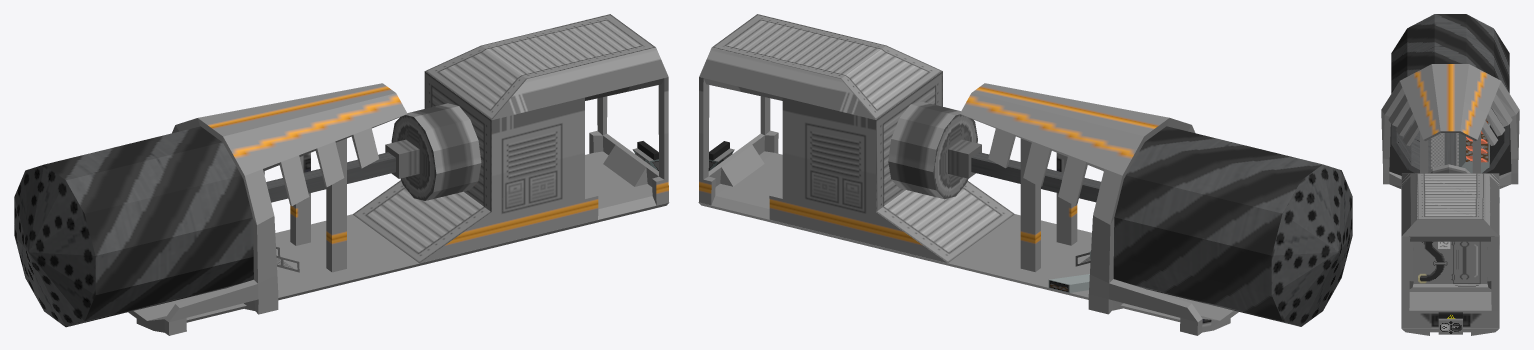
Rendered from bore.obj.
The picture shows the model from 3 angles, left to right: view 1: azimuth 30°, elevation 25°; view 2: azimuth 150°, elevation 25°; view 3: azimuth 270°, elevation 25°; orthographic projection. The views are drawn at different scales.
Visible parts, largest first — view 1: SHELL, CAB, FRAME, DRIVE_SHAFT_0; view 2: SHELL, CAB, FRAME, DRIVE_SHAFT_0; view 3: SHELL, FRAME, CAB, DRIVE_SHAFT_0.
Part boxes in pixels (bbox=[...]): SHELL: bbox=[352, 14, 668, 263]; CAB: bbox=[14, 126, 299, 327]; FRAME: bbox=[128, 83, 669, 335]; DRIVE_SHAFT_0: bbox=[266, 152, 395, 202]; SHELL: bbox=[699, 14, 1014, 262]; CAB: bbox=[1048, 126, 1352, 326]; FRAME: bbox=[698, 83, 1238, 335]; DRIVE_SHAFT_0: bbox=[971, 152, 1100, 202]; SHELL: bbox=[1401, 164, 1499, 334]; FRAME: bbox=[1381, 64, 1519, 335]; CAB: bbox=[1389, 14, 1511, 202]; DRIVE_SHAFT_0: bbox=[1444, 133, 1456, 165].
Bounding box in the file's own units: 12.91 × 3.24 × 3.38.
Materials: 4 (4 with a texture image).
